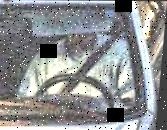seatbelt: (64, 32, 122, 90)
